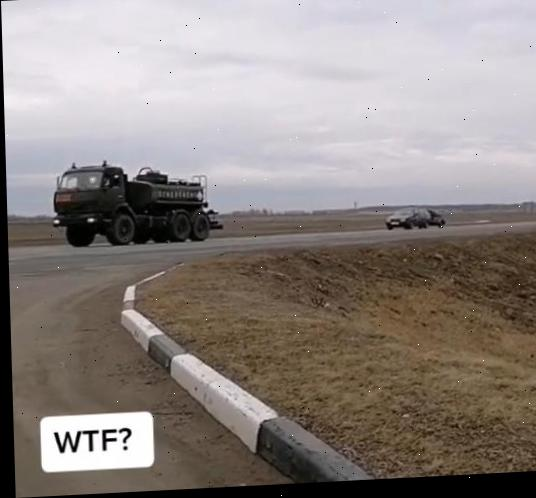car: (378, 204, 444, 232)
truck: (50, 158, 217, 249)
